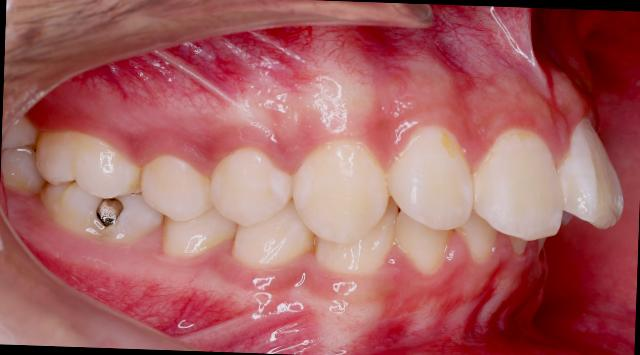canine class II 1/2: (230, 134, 398, 276)
molar class I: (34, 124, 167, 251)
